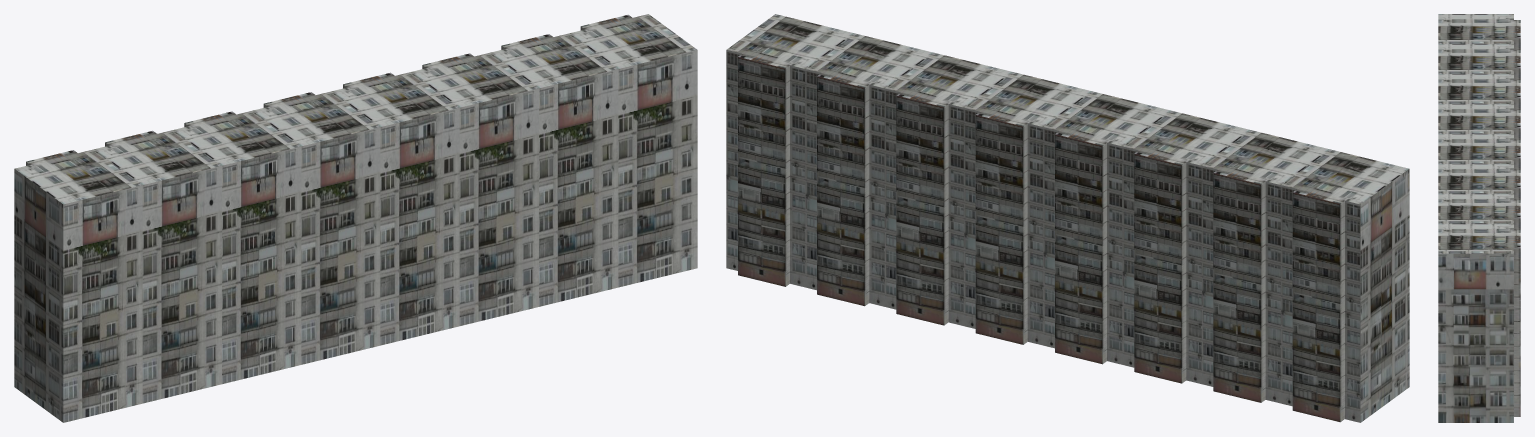
The model's file is улица модели.fbx.
The picture shows the model from 3 angles, left to right: view 1: azimuth 30°, elevation 25°; view 2: azimuth 150°, elevation 25°; view 3: azimuth 270°, elevation 25°; orthographic projection. The views are drawn at different scales.
Visible parts, largest first — view 1: Plane.008; view 2: Plane.008; view 3: Plane.008.
Part boxes in pixels (<box>): Plane.008: <box>14,14,697,422</box>; Plane.008: <box>726,14,1409,422</box>; Plane.008: <box>1438,14,1520,422</box>.
Size of the model in its own units: 10100 by 3325 by 1469.
Materials: 1 (1 with a texture image).
